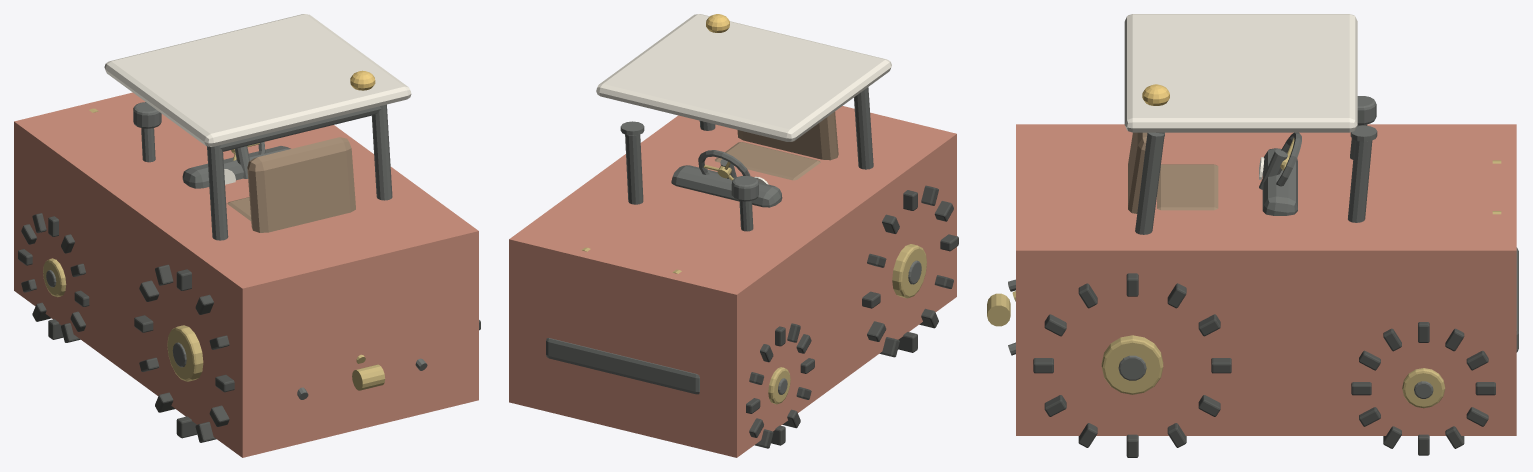
The model's file is tractor_production.glb.
3 views of the same model, side by side, from view 1: azimuth 30°, elevation 25°; view 2: azimuth 150°, elevation 25°; view 3: azimuth 270°, elevation 25° (orthographic). The views are drawn at different scales.
Parts seen in each view (by area): view 1: COL_Tractor, Canopy, SeatBack, Wheel_RL_TireAndTread, Wheel_FL_TireAndTread, ROPS_Post_L, ROPS_Post_R, Wheel_RL_Hub, ROPS_Crossbar, Dashboard, HitchPin, AirPrecleaner (+1 smaller); view 2: COL_Tractor, Canopy, FrontBumper, Wheel_RL_TireAndTread, Wheel_FL_TireAndTread, SeatBase, SeatBack, Dashboard, Wheel_RL_Hub, ROPS_Post_L, ExhaustStack, AirPrecleaner (+2 smaller); view 3: COL_Tractor, Canopy, Wheel_RR_TireAndTread, Wheel_FR_TireAndTread, SeatBase, Wheel_RR_Hub, ROPS_Post_R, Dashboard, ExhaustStack, SeatBack, Wheel_FR_Hub, HitchPin (+3 smaller).
Boxes of the visible parts, x1,y1,x2,y2 form: COL_Tractor: (14,92,478,457); Canopy: (104,14,411,146); SeatBack: (247,137,355,232); Wheel_RL_TireAndTread: (134,264,234,442); Wheel_FL_TireAndTread: (18,213,89,342); ROPS_Post_L: (207,145,228,240); ROPS_Post_R: (371,104,392,200); Wheel_RL_Hub: (167,325,203,381); ROPS_Crossbar: (220,106,381,151); Dashboard: (182,146,290,188); HitchPin: (352,364,385,390); AirPrecleaner: (133,102,161,128); COL_Tractor: (509,106,956,457); Canopy: (596,14,891,141); FrontBumper: (546,338,699,394); Wheel_RL_TireAndTread: (862,185,958,357); Wheel_FL_TireAndTread: (746,323,814,448); SeatBase: (715,142,820,180); SeatBack: (737,111,838,160); Dashboard: (671,165,782,207); Wheel_RL_Hub: (892,244,926,298); ROPS_Post_L: (854,87,873,169); ExhaustStack: (625,134,643,204); AirPrecleaner: (731,175,758,201); COL_Tractor: (1016,124,1516,435); Canopy: (1124,14,1357,132); Wheel_RR_TireAndTread: (1033,273,1231,457); Wheel_FR_TireAndTread: (1351,322,1495,455); SeatBase: (1157,164,1218,210); Wheel_RR_Hub: (1101,335,1163,394); ROPS_Post_R: (1135,132,1164,234); Dashboard: (1262,148,1297,215); ExhaustStack: (1348,140,1372,222); SeatBack: (1128,132,1147,213); Wheel_FR_Hub: (1402,368,1445,408); HitchPin: (987,293,1010,326).
Bounding box in the file's own units: 2.07 × 2.38 × 3.38.
